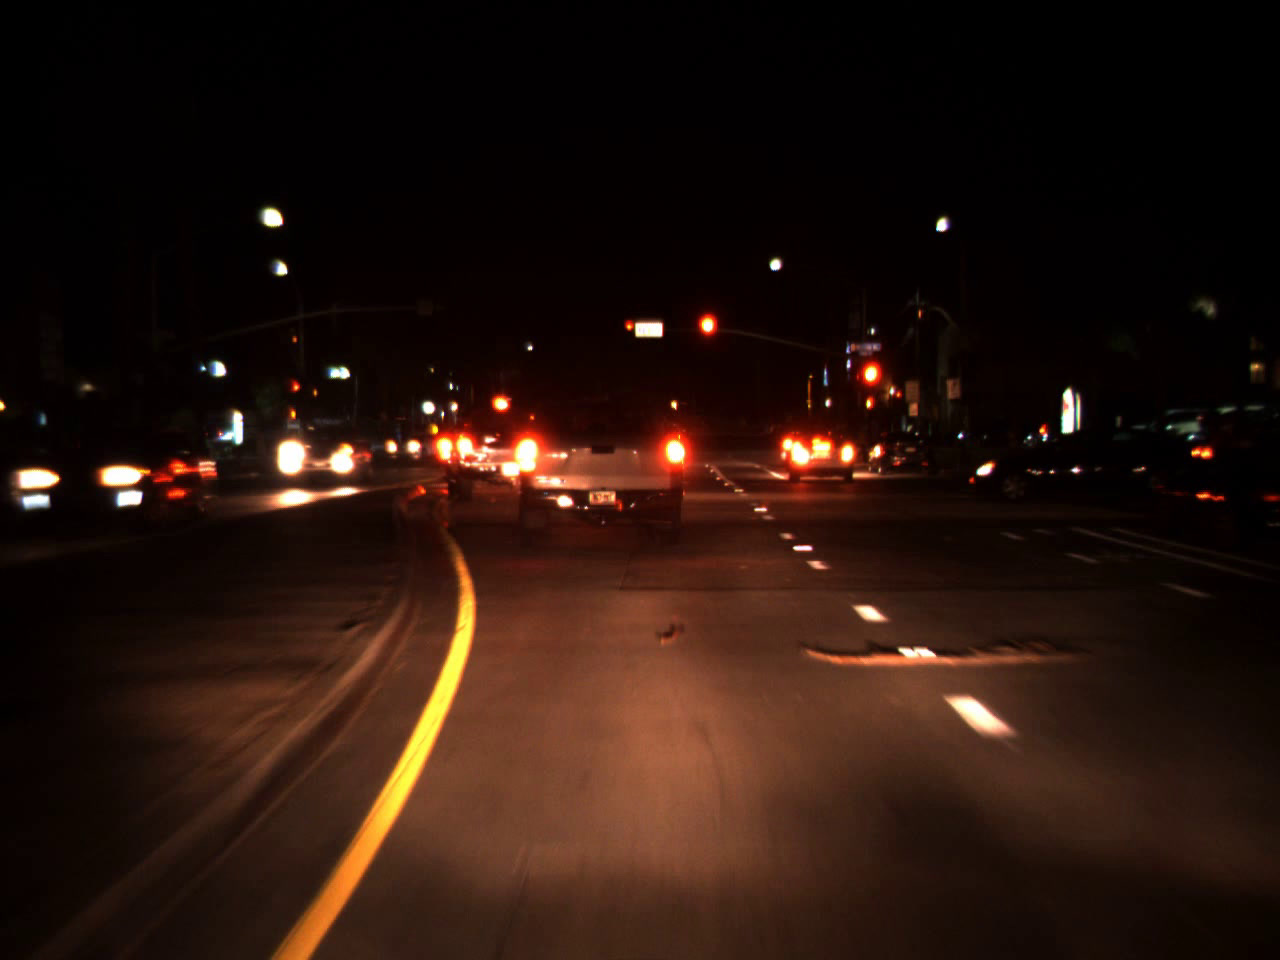stop: (857, 356, 887, 419), (694, 308, 721, 364), (624, 320, 636, 341), (291, 379, 301, 403)
